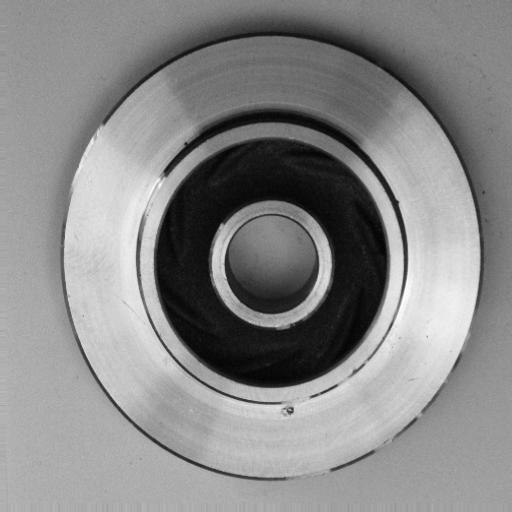crack: (270, 399, 309, 420)
scratch: (54, 118, 114, 211), (137, 160, 180, 234), (270, 459, 338, 485)
unpolished_casting: (63, 33, 482, 481)
